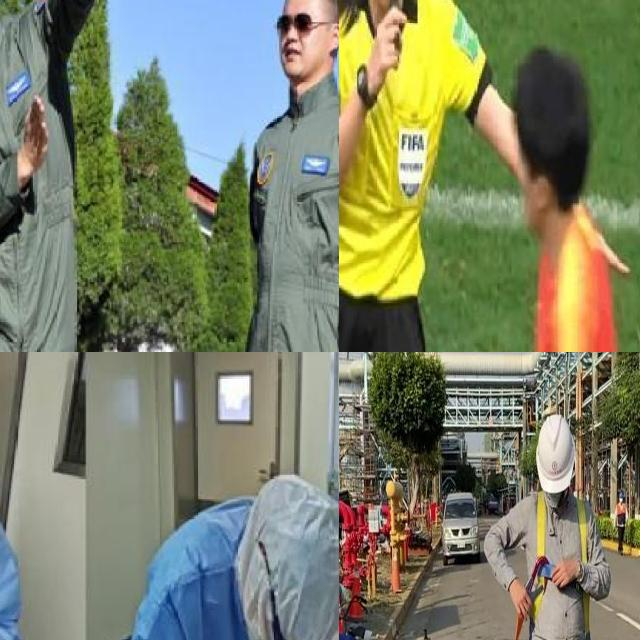Harness: (526, 491, 555, 640)
face_nomask: (271, 0, 338, 82)
glasses: (270, 12, 317, 38)
hand_noglove: (365, 5, 407, 82), (16, 95, 50, 182), (592, 219, 632, 277)
head_nohelmet: (508, 54, 594, 200)
person: (339, 0, 482, 352), (486, 37, 637, 352), (72, 469, 339, 640), (0, 0, 128, 352), (231, 0, 339, 352)
